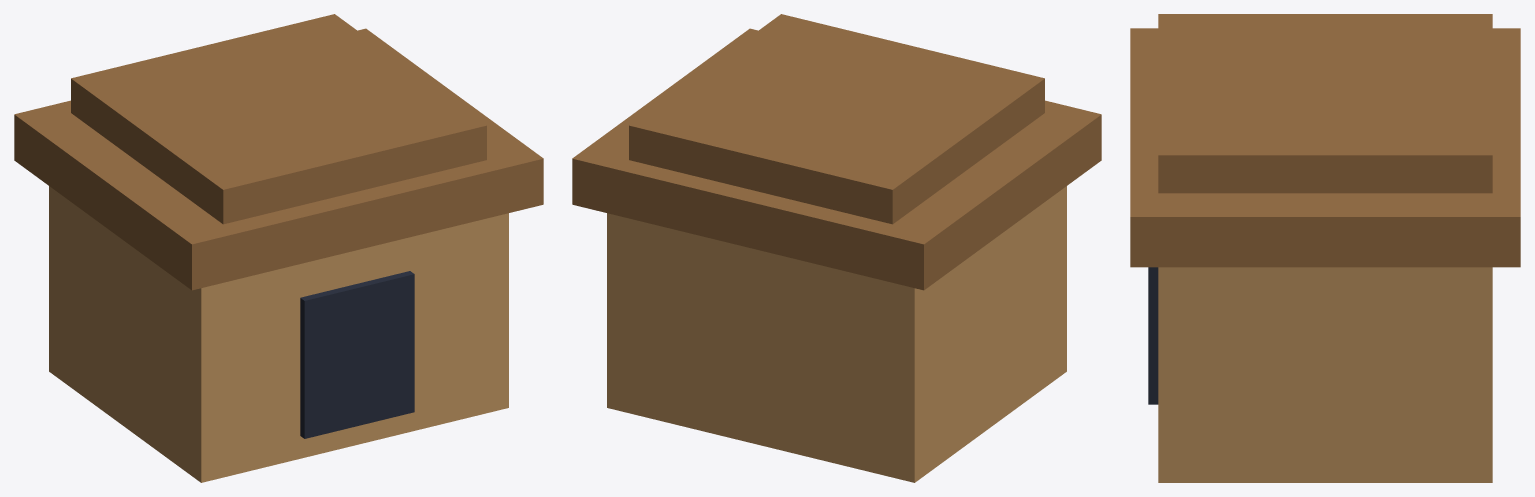
The model's file is dog_house.glb.
3 views of the same model, side by side, from view 1: azimuth 30°, elevation 25°; view 2: azimuth 150°, elevation 25°; view 3: azimuth 270°, elevation 25° (orthographic). The views are drawn at different scales.
Parts seen in each view (by area): view 1: dog_house; view 2: dog_house; view 3: dog_house.
Part boxes in pixels (x1,y1,x2,y2): dog_house: (14,14,543,482); dog_house: (572,14,1101,482); dog_house: (1130,14,1520,482).
Size of the model in its own units: 32 by 25 by 28.
